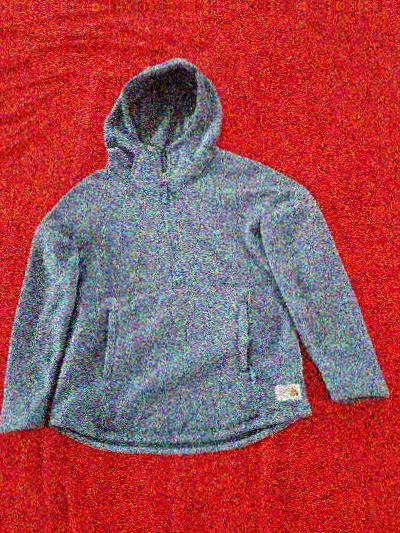Hoodie: (0, 45, 394, 442)
